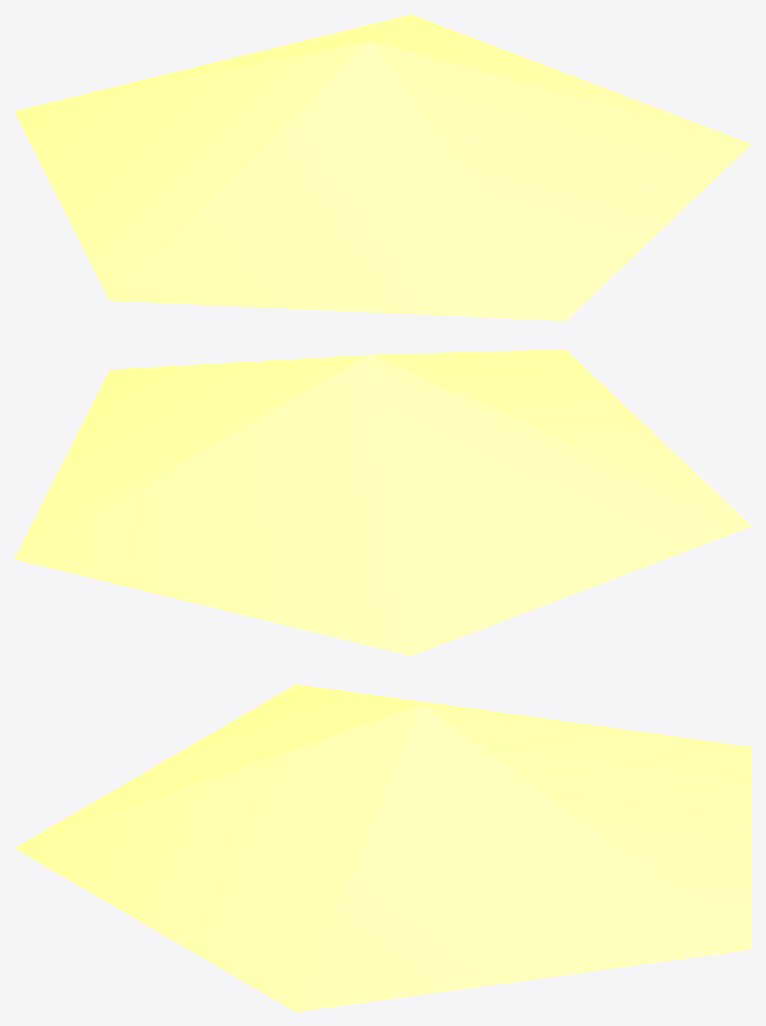
The model's file is star-carving.gltf.
3 renders of one model, top to bottom at view 1: azimuth 30°, elevation 25°; view 2: azimuth 150°, elevation 25°; view 3: azimuth 270°, elevation 25°, orthographic. The views are drawn at different scales.
Parts seen in each view (by area): view 1: Star; view 2: Star; view 3: Star.
Boxes of the visible parts, x1,y1,x2,y2 form: Star: (14, 14, 751, 320); Star: (14, 349, 751, 655); Star: (14, 684, 751, 1011).
Size of the model in its own units: 0.1712 by 0.035 by 0.1628.
